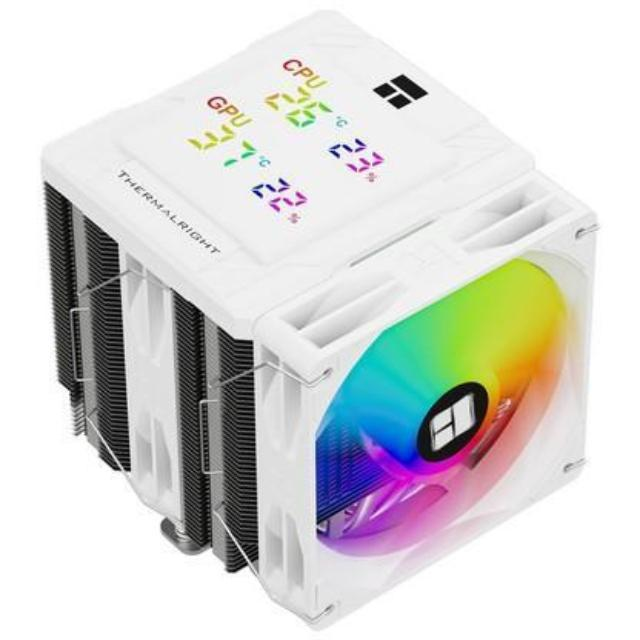CPU_Fan: (39, 5, 598, 630)
